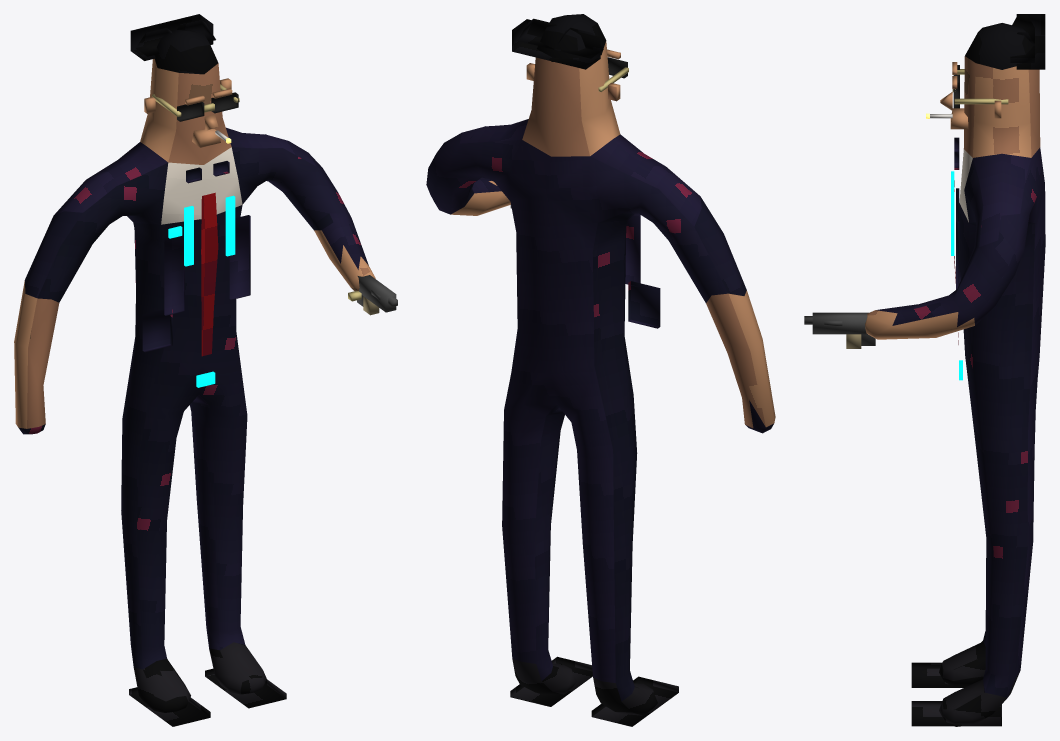
File: oyabaun_player.glb
3 renders of one model, left to right at view 1: azimuth 30°, elevation 25°; view 2: azimuth 150°, elevation 25°; view 3: azimuth 270°, elevation 25°, orthographic. The views are drawn at different scales.
Visible parts, largest first — view 1: BossCharacter; view 2: BossCharacter; view 3: BossCharacter.
Part boxes in pixels (x1,y1,x2,y2): BossCharacter: (14,14,397,726); BossCharacter: (426,14,775,726); BossCharacter: (804,14,1045,726).
Size of the model in its own units: 0.939 by 1.82 by 0.5854.
Materials: 13 (6 with a texture image).
